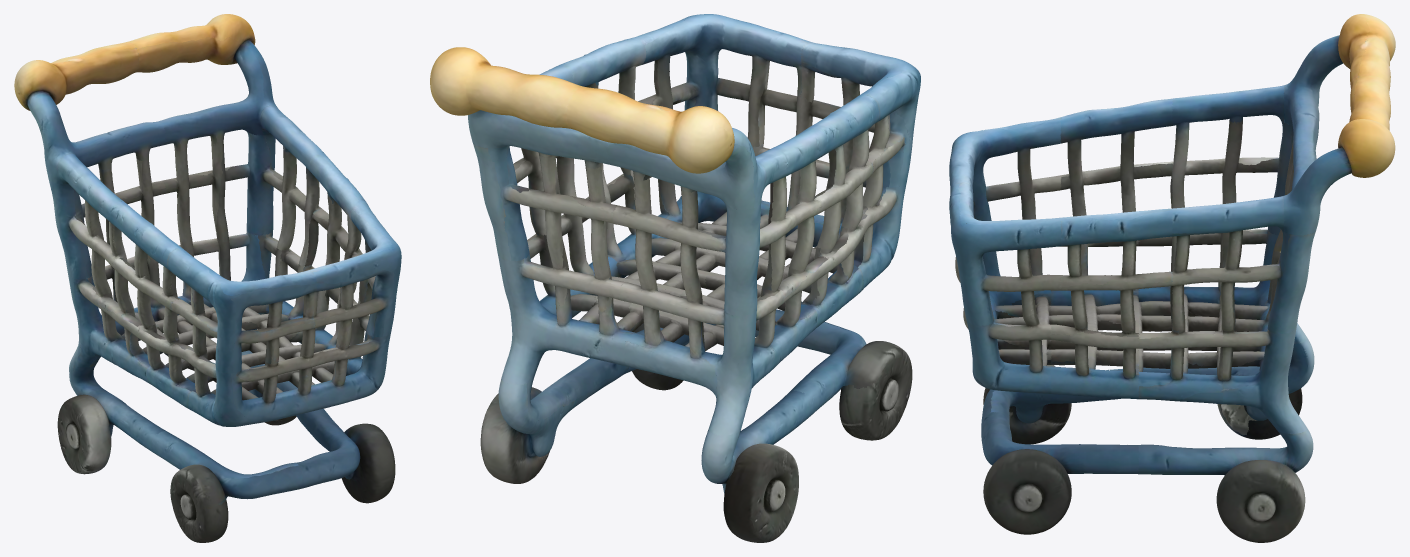
The model's file is sabad.glb.
3 views of the same model, side by side, from view 1: azimuth 30°, elevation 25°; view 2: azimuth 150°, elevation 25°; view 3: azimuth 270°, elevation 25° (orthographic). The views are drawn at different scales.
Parts seen in each view (by area): view 1: sabad, wheel_FR, wheel_BR, wheel_FL; view 2: sabad, wheel_BR, wheel_FR, wheel_BL, wheel_FL; view 3: sabad, wheel_FL, wheel_BL, wheel_FR, wheel_BR.
Boxes of the visible parts, left/top/right/bottom form: sabad: left=14, top=14, right=401, bottom=499; wheel_FR: left=170, top=464, right=228, bottom=542; wheel_BR: left=57, top=394, right=111, bottom=474; wheel_FL: left=341, top=423, right=395, bottom=503; sabad: left=430, top=14, right=920, bottom=493; wheel_BR: left=723, top=443, right=798, bottom=542; wheel_FR: left=839, top=341, right=912, bottom=440; wheel_BL: left=480, top=387, right=549, bottom=483; wheel_FL: left=632, top=323, right=683, bottom=390; sabad: left=949, top=14, right=1395, bottom=475; wheel_FL: left=983, top=449, right=1071, bottom=534; wheel_BL: left=1216, top=460, right=1305, bottom=542; wheel_FR: left=983, top=365, right=1071, bottom=444; wheel_BR: left=1217, top=388, right=1302, bottom=439.
Size of the model in its own units: 4.21 by 6.42 by 6.18.
Materials: 1 (1 with a texture image).
